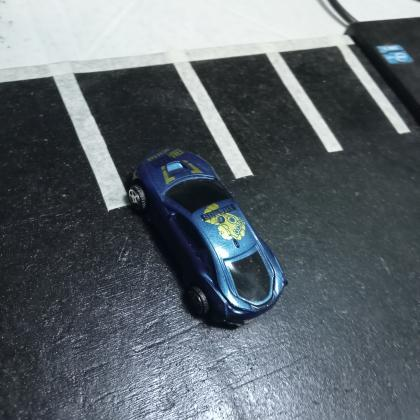Car: (127, 145, 290, 328)
